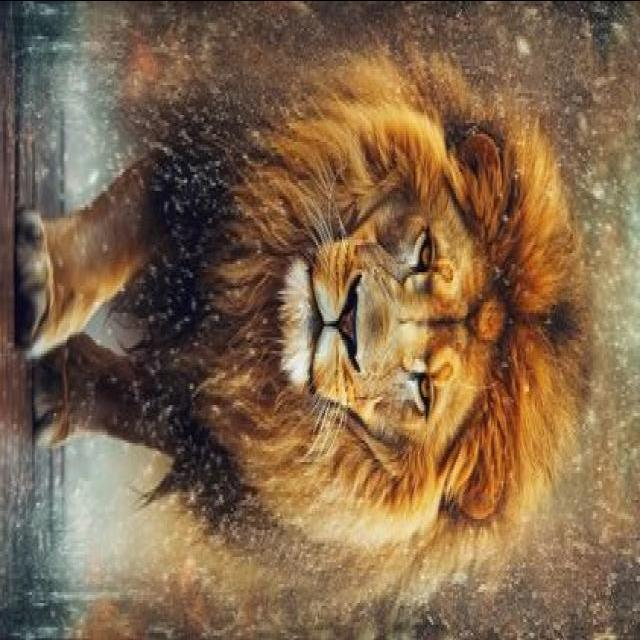lions: (0, 21, 640, 623)
